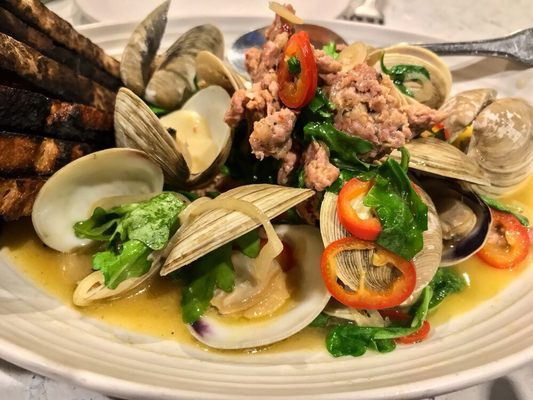soup: (162, 183, 330, 351)
taco: (320, 238, 416, 310)
